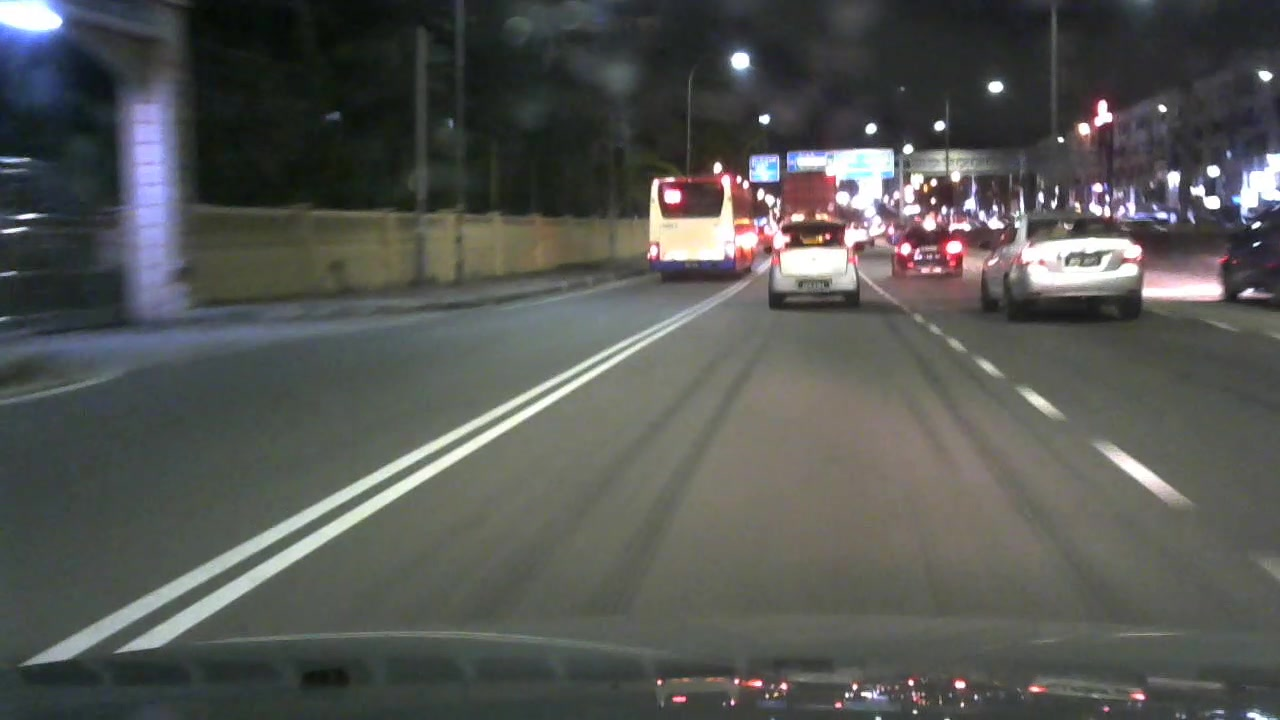Car: (977, 201, 1143, 315), (756, 210, 869, 311), (1215, 193, 1280, 307), (883, 216, 965, 282)
